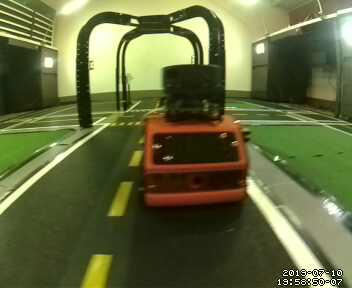pheeno: (142, 62, 253, 212)
